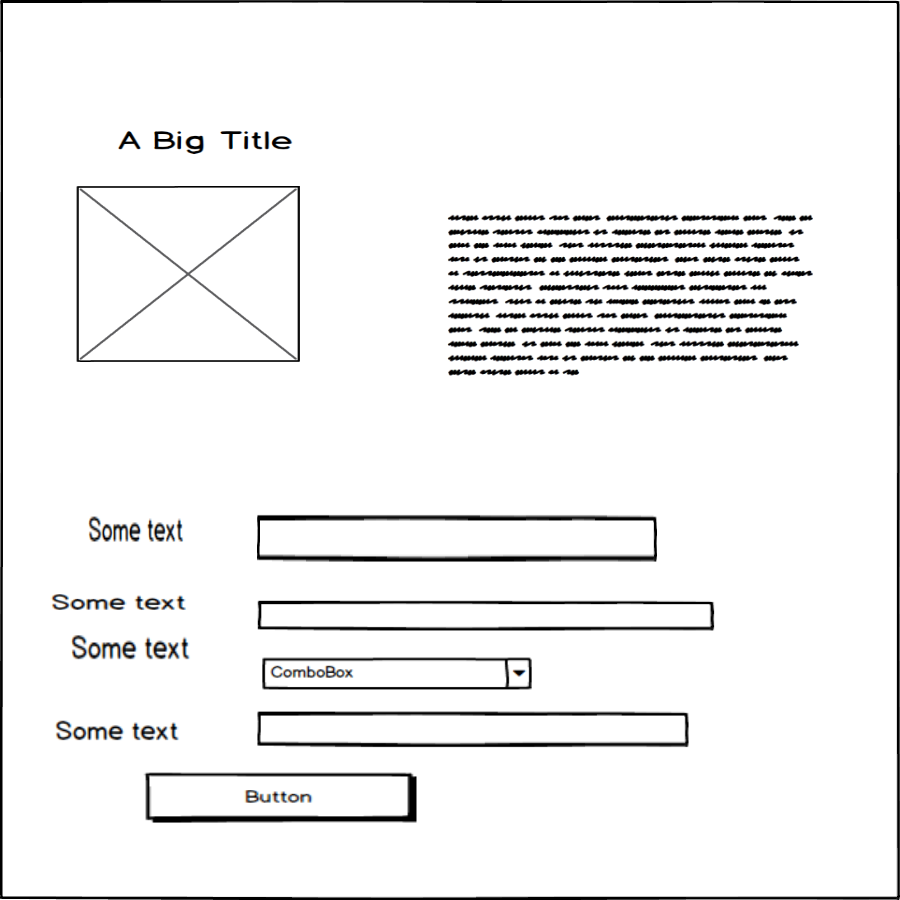button: (138, 764, 426, 833)
h1: (115, 121, 301, 160)
image: (71, 175, 308, 371)
input: (248, 510, 665, 571), (249, 595, 724, 638), (252, 707, 697, 752)
label: (67, 629, 201, 669), (53, 712, 181, 751), (83, 511, 193, 551), (48, 591, 190, 618)
p: (437, 203, 823, 388)
select_box: (259, 648, 535, 697)
